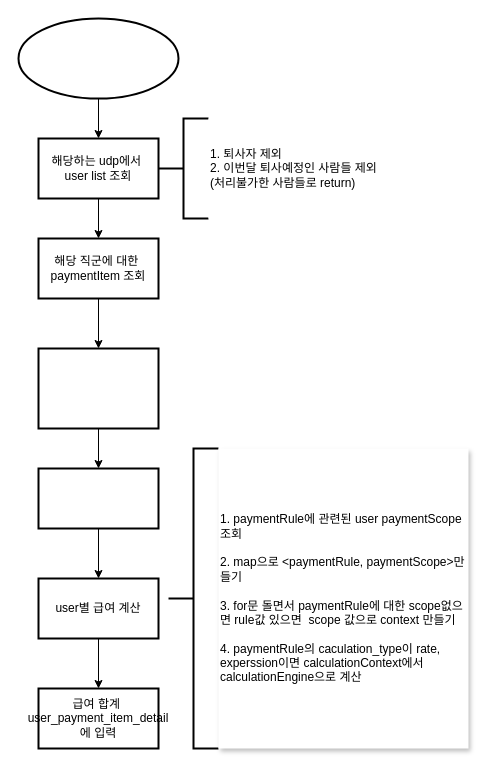
This 491x772 diagram has some shape labels left out. The shapes that lost their labels are listed below. From the top down, each one's centre as x and y in pixels, then its label:
At (x=98, y=58): "직종/부서/직급에 대한 급여 정산 시작".
At (x=98, y=388): "paymentItem을 통해서 해당 직군에 대한 paymentRule 조회 계산순서로 정렬".
At (x=98, y=498): "userList 돌면서 paymentScope 및 paymentRule 적용".
